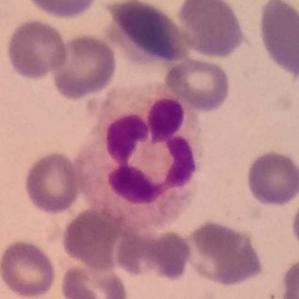Neutrophil: (73, 83, 208, 231)
RBC: (101, 0, 191, 68), (182, 218, 266, 288), (48, 32, 119, 101), (112, 224, 194, 282), (59, 204, 126, 271), (3, 17, 70, 82), (175, 0, 246, 60), (163, 56, 233, 113), (22, 150, 82, 215), (0, 237, 58, 299), (256, 0, 299, 78), (244, 148, 299, 208), (59, 259, 130, 299), (22, 0, 102, 20), (278, 254, 299, 299), (288, 184, 299, 254)
